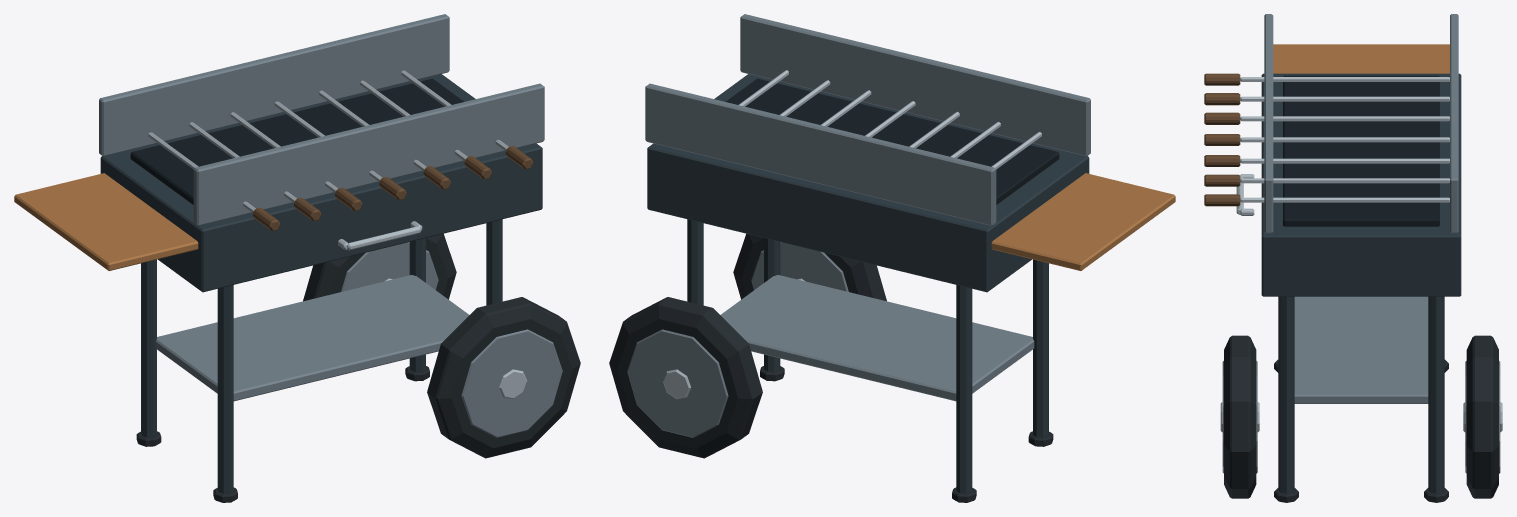
The model's file is b10_street_vendor_skewer_grill_cart.glb.
3 renders of one model, left to right at view 1: azimuth 30°, elevation 25°; view 2: azimuth 150°, elevation 25°; view 3: azimuth 270°, elevation 25°, orthographic. The views are drawn at different scales.
Visible parts, largest first — view 1: b10_street_vendor_skewer_grill_cart; view 2: b10_street_vendor_skewer_grill_cart; view 3: b10_street_vendor_skewer_grill_cart.
Boxes of the visible parts, <box> form: b10_street_vendor_skewer_grill_cart: <box>14,14,580,502</box>; b10_street_vendor_skewer_grill_cart: <box>609,14,1175,502</box>; b10_street_vendor_skewer_grill_cart: <box>1204,14,1502,502</box>.
Size of the model in its own units: 1.43 by 1.04 by 0.835.
